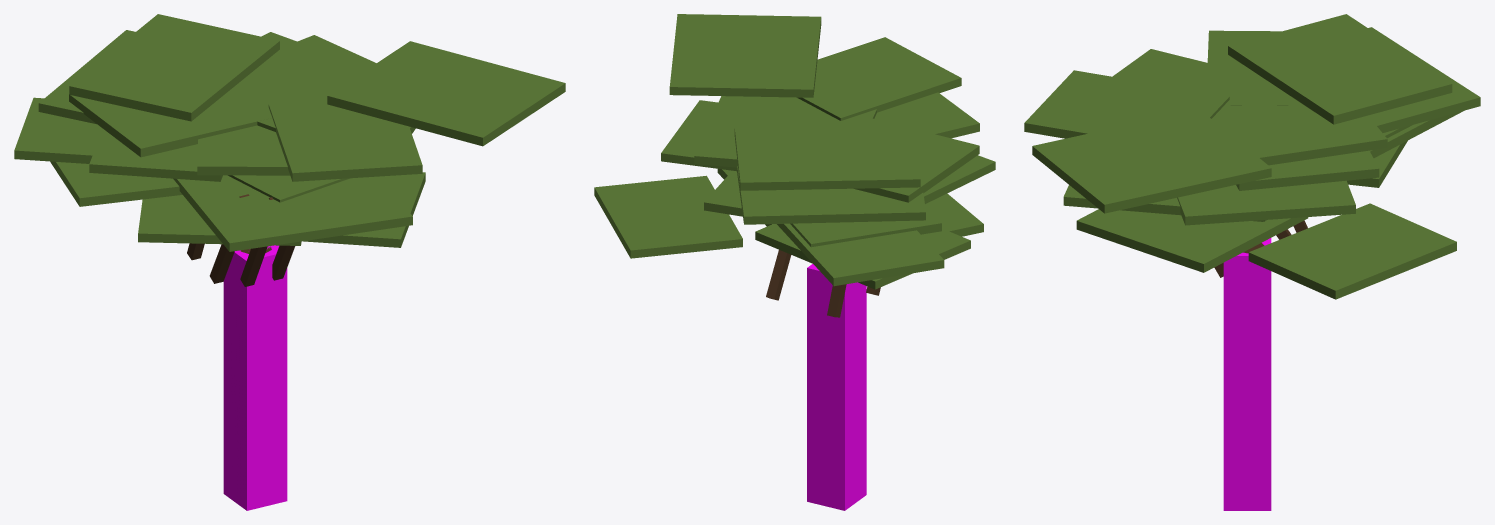
Rendered from barrio-abajo-arbol-matarraton.glb.
3 renders of one model, left to right at view 1: azimuth 30°, elevation 25°; view 2: azimuth 150°, elevation 25°; view 3: azimuth 270°, elevation 25°, orthographic. The views are drawn at different scales.
Visible parts, largest first — view 1: arbol_matarraton_Hoja, COL_Tronco, arbol_matarraton_MaderaOscura; view 2: arbol_matarraton_Hoja, COL_Tronco, arbol_matarraton_MaderaOscura; view 3: arbol_matarraton_Hoja, COL_Tronco.
Boxes of the visible parts, bbox=[...] form: arbol_matarraton_Hoja: bbox=[14, 14, 565, 251]; COL_Tronco: bbox=[223, 245, 287, 510]; arbol_matarraton_MaderaOscura: bbox=[187, 194, 295, 286]; arbol_matarraton_Hoja: bbox=[594, 14, 995, 289]; COL_Tronco: bbox=[807, 264, 866, 510]; arbol_matarraton_MaderaOscura: bbox=[766, 250, 880, 317]; arbol_matarraton_Hoja: bbox=[1024, 14, 1480, 299]; COL_Tronco: bbox=[1223, 238, 1271, 510].
Size of the model in its own units: 4.56 by 4.27 by 4.22.
